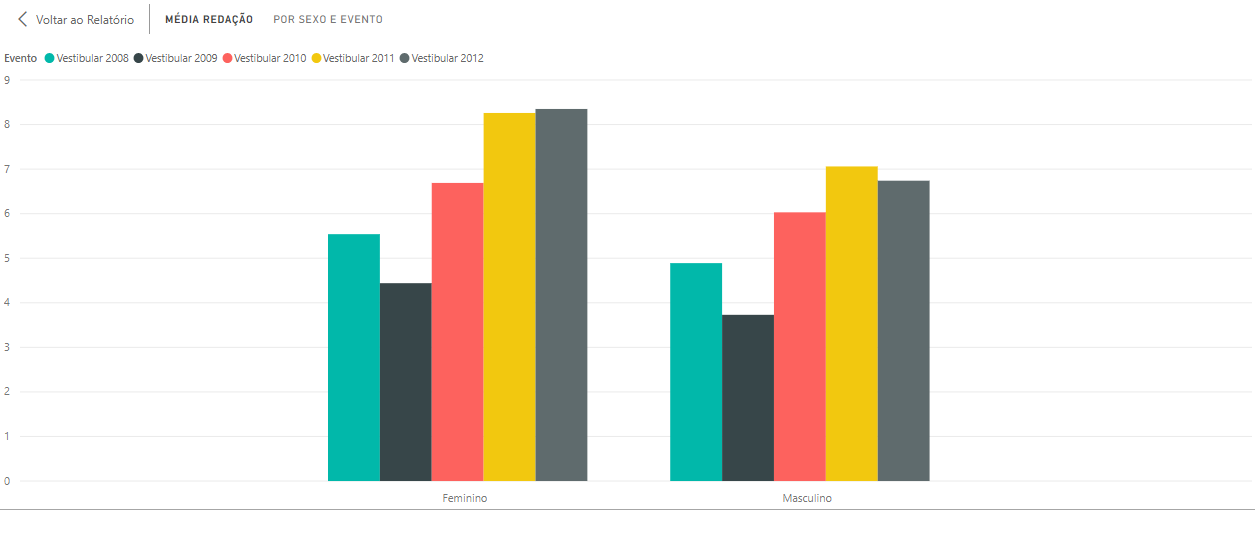

Layout of this report page (visuals, bound fields, positions):
{"tool":"powerbi","page":{"name":"Redação - Sexo X Evento","canvas":[1280,720],"ordinal":0},"visuals":[{"type":"clusteredColumnChart","fields":{"Category":["public desempenho_fato.sexo"],"Y":["Sum(public desempenho_fato.nota_media_redacao)"],"Series":["public desempenho_fato.descricao_evento"]},"box":[9.9,19.7,1268.7,698.9],"z":1}]}

Visuals, with their boxes on the page's 1280x720 design canvas (x1, y1, x2, y2). These are canvas units, not pixel positions in the 1255x544 screenshot, which may show the page scaled, cropped or inside an application window:
clusteredColumnChart - public desempenho_fato.sexo x Sum(public desempenho_fato.nota_media_redacao): {"x1": 10, "y1": 20, "x2": 1279, "y2": 719}
